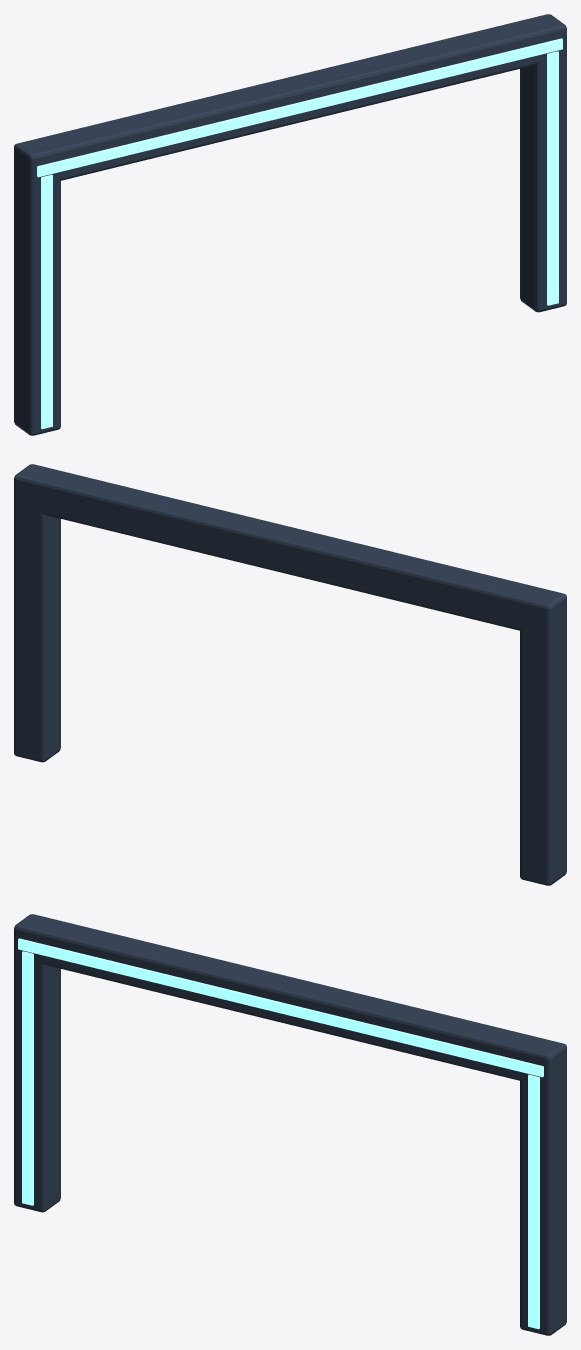
Rendered from EnergyGoal.fbx.
3 views of the same model, one above another, from view 1: azimuth 30°, elevation 25°; view 2: azimuth 150°, elevation 25°; view 3: azimuth 330°, elevation 25° (orthographic).
Visible parts, largest first — view 1: Goal_Top, Goal_Pillar, Goal_Pillar.001, Goal_Light, Goal_Neon.001, Goal_Neon; view 2: Goal_Top, Goal_Pillar, Goal_Pillar.001; view 3: Goal_Top, Goal_Pillar.001, Goal_Pillar, Goal_Light, Goal_Neon, Goal_Neon.001.
Boxes of the visible parts, bbox=[...] form: Goal_Top: bbox=[14, 14, 566, 185]; Goal_Pillar: bbox=[14, 164, 60, 435]; Goal_Pillar.001: bbox=[520, 55, 566, 312]; Goal_Light: bbox=[37, 38, 562, 177]; Goal_Neon.001: bbox=[547, 51, 558, 305]; Goal_Neon: bbox=[41, 174, 52, 429]; Goal_Top: bbox=[14, 464, 566, 635]; Goal_Pillar: bbox=[520, 614, 566, 885]; Goal_Pillar.001: bbox=[14, 495, 60, 762]; Goal_Top: bbox=[14, 914, 566, 1085]; Goal_Pillar.001: bbox=[520, 1064, 566, 1335]; Goal_Pillar: bbox=[14, 955, 60, 1212]; Goal_Light: bbox=[18, 938, 543, 1077]; Goal_Neon: bbox=[22, 951, 33, 1205]; Goal_Neon.001: bbox=[528, 1074, 539, 1329].
Size of the model in its own units: 850 by 425 by 53.
